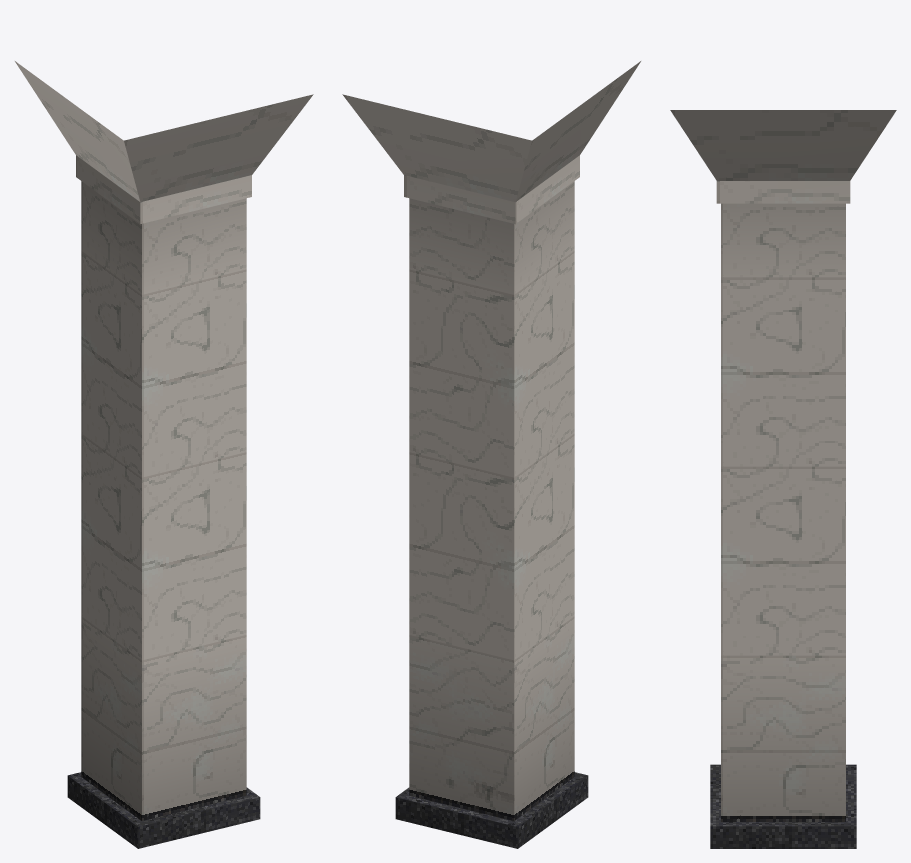
Rendered from column.glb.
3 renders of one model, left to right at view 1: azimuth 30°, elevation 25°; view 2: azimuth 150°, elevation 25°; view 3: azimuth 270°, elevation 25°, orthographic. The views are drawn at different scales.
Visible parts, largest first — view 1: column; view 2: column; view 3: column.
Part boxes in pixels (x1=…): column: x1=15, y1=61, x2=313, y2=848; column: x1=342, y1=61, x2=640, y2=848; column: x1=670, y1=110, x2=896, y2=848.
Bounding box in the file's own units: 1.09 × 4 × 1.09.
Materials: 3 (3 with a texture image).
